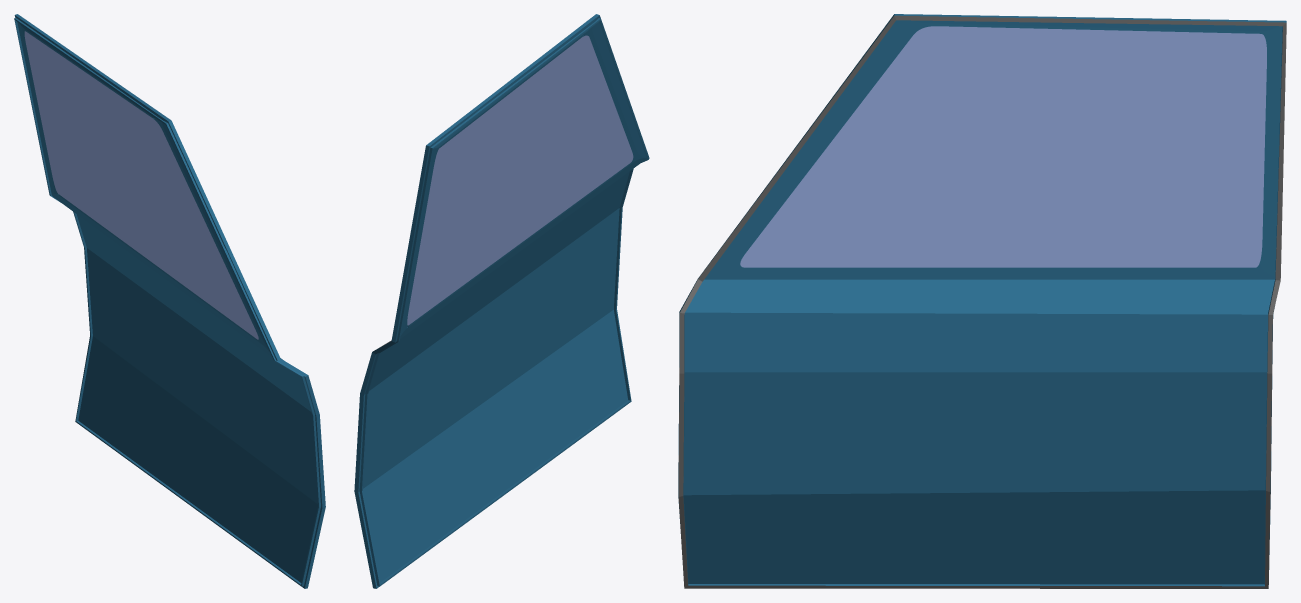
File: 2107_Front_Door (3).fbx
The picture shows the model from 3 angles, left to right: view 1: azimuth 30°, elevation 25°; view 2: azimuth 150°, elevation 25°; view 3: azimuth 270°, elevation 25°; orthographic projection. The views are drawn at different scales.
Parts seen in each view (by area): view 1: Front Doors; view 2: Front Doors; view 3: Front Doors.
Part boxes in pixels (box(x1,y1,x2,y2)): Front Doors: box(14, 14, 325, 588); Front Doors: box(354, 14, 649, 588); Front Doors: box(678, 14, 1286, 588).
Size of the model in its own units: 22.8 by 122 by 125.
